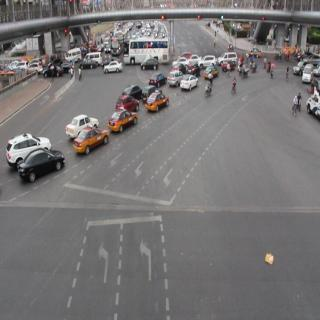Car: (6, 130, 55, 169), (17, 153, 67, 184), (70, 126, 112, 160), (125, 38, 170, 63), (105, 109, 139, 134), (144, 90, 170, 116), (61, 115, 105, 130), (116, 92, 142, 111), (104, 65, 125, 74)
